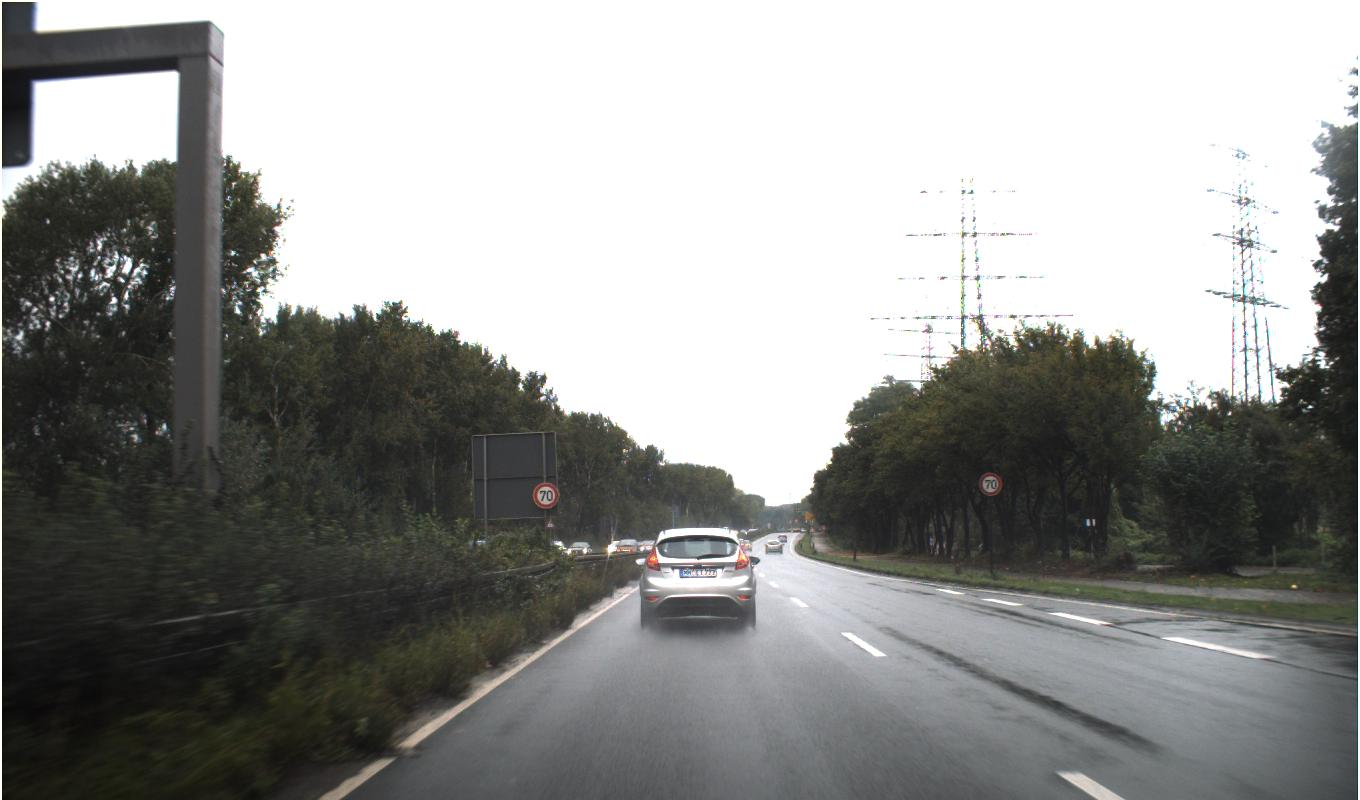prohibitory: (532, 481, 558, 507), (976, 470, 1002, 496)
